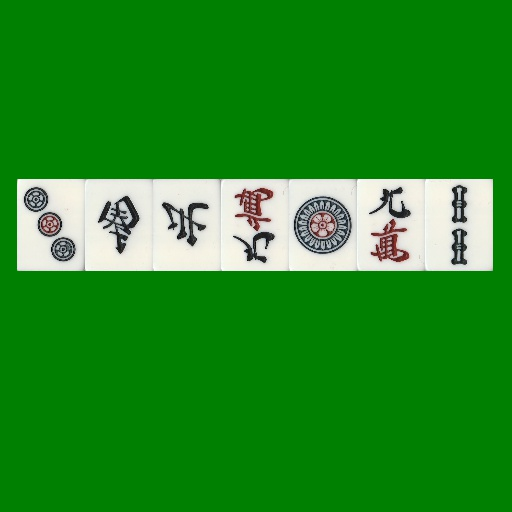1p: (289, 179, 357, 271)
2s: (425, 179, 493, 271)
3p: (17, 179, 85, 271)
9m: (221, 179, 289, 271), (357, 179, 425, 271)
north: (153, 179, 221, 271)
south: (85, 179, 153, 271)
